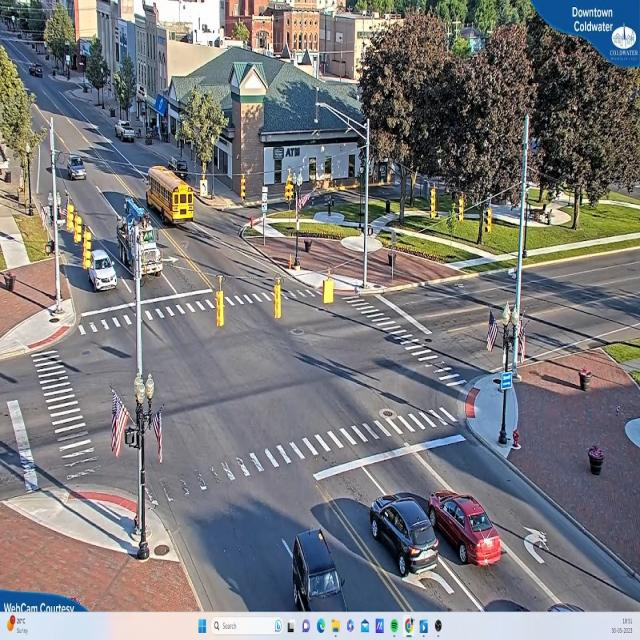bus: (146, 166, 198, 226)
car: (369, 492, 442, 577), (427, 492, 506, 568), (88, 250, 120, 292), (117, 120, 139, 143), (68, 161, 86, 179)
truck: (114, 190, 164, 275)
